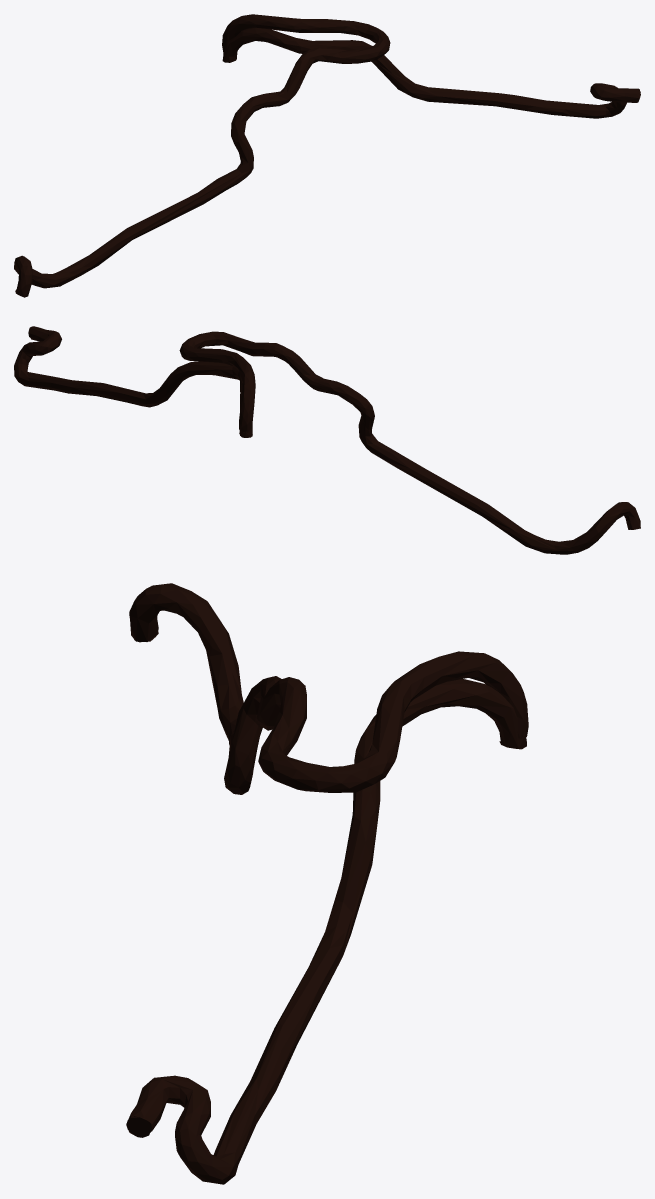
Rendered from rocker_right_094.dae.
3 views of the same model, one above another, from view 1: azimuth 30°, elevation 25°; view 2: azimuth 150°, elevation 25°; view 3: azimuth 270°, elevation 25° (orthographic). The views are drawn at different scales.
Parts seen in each view (by area): view 1: node; view 2: node; view 3: node.
Part boxes in pixels (box(x1,y1,x2,y2)): node: box(14, 14, 640, 297); node: box(14, 326, 640, 554); node: box(126, 583, 528, 1184).
Bounding box in the file's own units: 1.31 × 0.3744 × 0.338.
